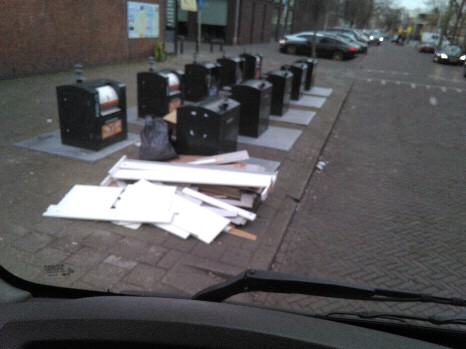Container: (75, 78, 131, 147), (250, 86, 290, 131), (146, 65, 184, 109), (193, 109, 230, 149), (298, 55, 332, 84), (276, 75, 294, 117), (195, 57, 219, 88), (284, 69, 311, 95), (226, 52, 247, 80), (249, 49, 263, 65)
Rest: (91, 188, 263, 243), (110, 154, 262, 196), (138, 113, 171, 153)
Voertuig: (285, 25, 361, 63), (431, 47, 466, 68)
